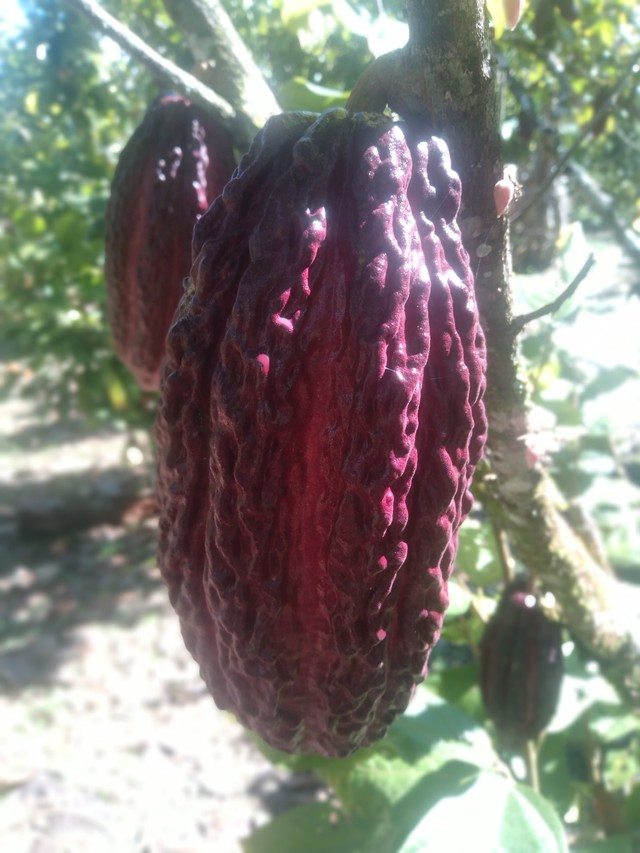Health: (128, 95, 505, 767)
